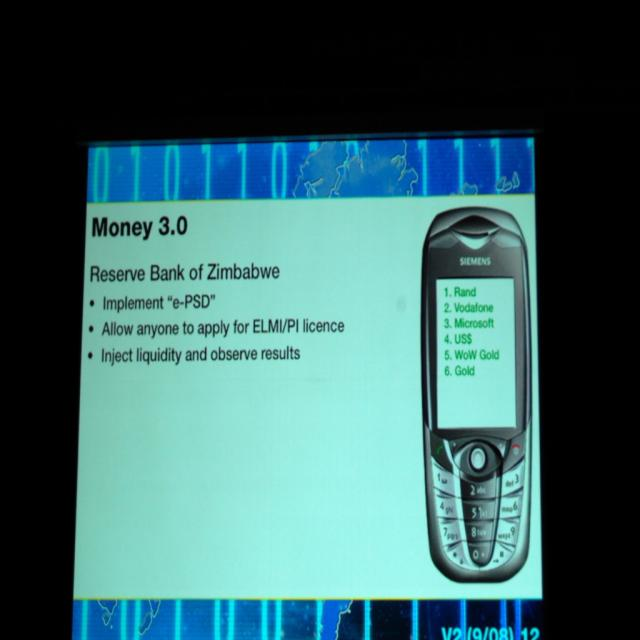Mobile-phone: (419, 202, 529, 586)
